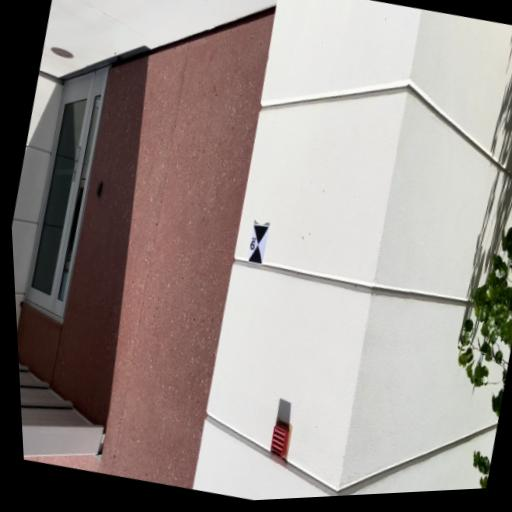target9: (247, 225, 270, 263)
